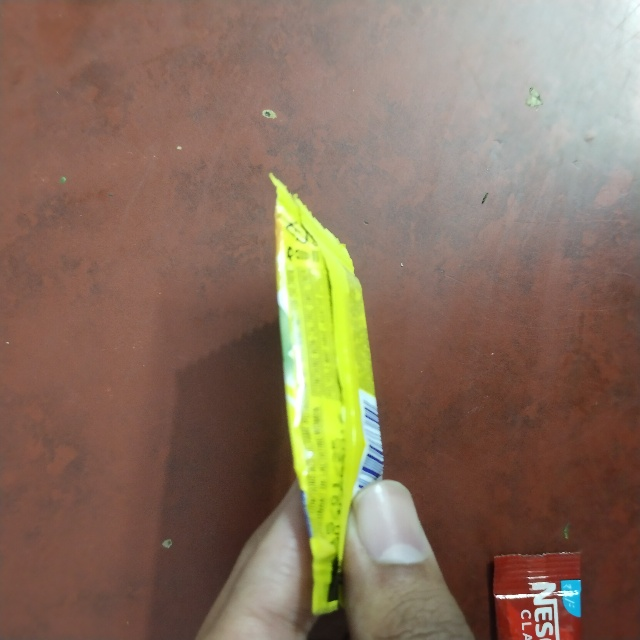Orbit: (264, 162, 393, 622)
